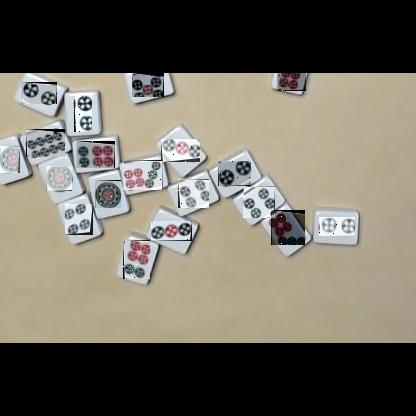1p: (95, 180, 121, 208), (46, 166, 72, 191), (0, 146, 20, 173)
2p: (218, 161, 251, 186), (21, 82, 57, 104), (74, 94, 92, 132), (319, 217, 355, 236)
3p: (161, 139, 200, 162), (151, 221, 192, 241)
4p: (243, 186, 275, 218), (178, 179, 209, 208), (65, 204, 93, 235)
5p: (132, 73, 164, 97)
6p: (76, 141, 115, 168), (123, 240, 150, 279)
7p: (123, 160, 163, 190), (271, 210, 305, 245), (277, 73, 306, 91)
8p: (26, 129, 65, 157)
